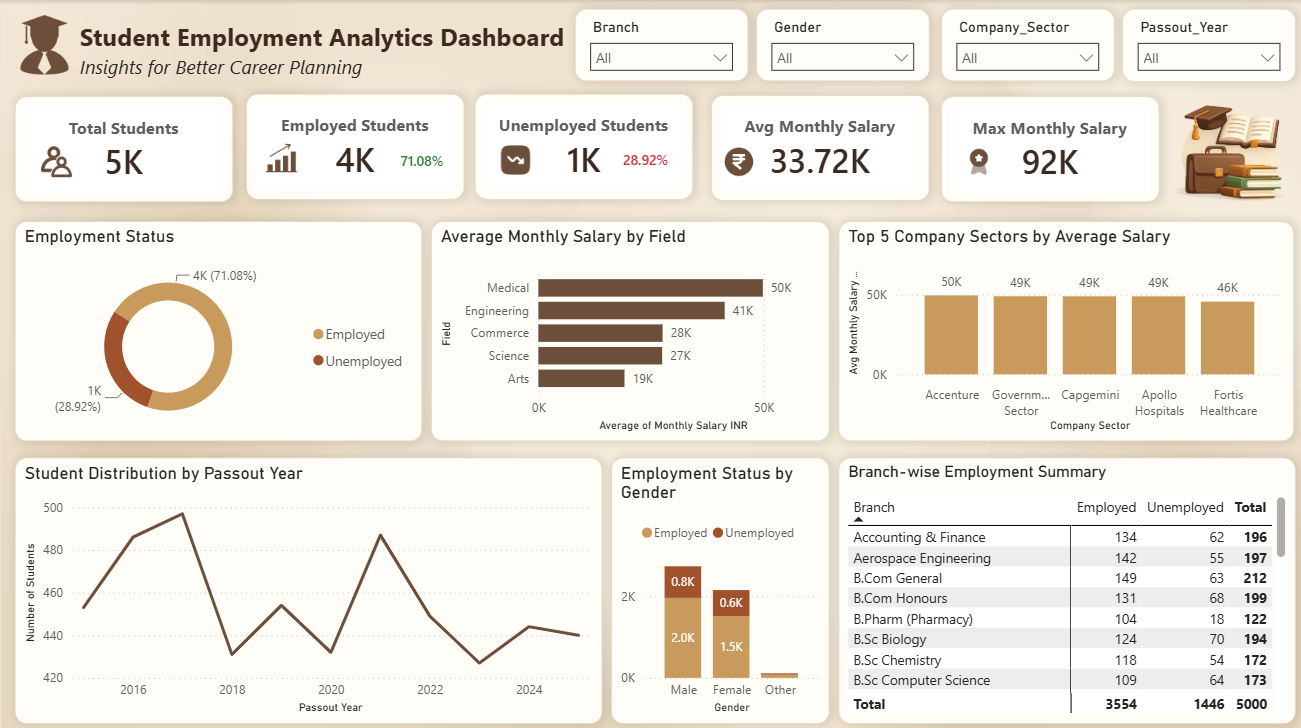

What the dashboard file says about the page in this screenshot:
{"tool":"powerbi","page":{"name":"Page 1","canvas":[1280,720],"ordinal":0},"visuals":[{"type":"textbox","box":[72.4,14.7,488.6,50],"z":0},{"type":"image","box":[13.5,14.7,58.6,58.6],"z":1000},{"type":"textbox","box":[72.4,47.9,488.6,50],"z":2000},{"type":"cardVisual","fields":{"Data":["Measures (2).Employed Students"]},"box":[240.5,92,214.7,104.3],"z":3000},{"type":"cardVisual","fields":{"Data":["Count(Student_Data.Student_ID)"]},"box":[13.5,94.5,214.7,104.3],"z":4000},{"type":"cardVisual","fields":{"Data":["Measures (2).Unemployed Students"]},"box":[465,92,214.7,104.3],"z":5000},{"type":"cardVisual","fields":{"Data":["Avg(Student_Data.Monthly_Salary_INR)"]},"box":[696.9,93.3,214.7,104.3],"z":6000},{"type":"cardVisual","fields":{"Data":["Max(Student_Data.Monthly_Salary_INR)"]},"box":[922.7,94.5,214.7,104.3],"z":7000},{"type":"image","box":[942.3,143.6,35.6,30.7],"z":8000},{"type":"image","box":[36.8,143.6,35,30.7],"z":9000},{"type":"image","box":[257.7,139.9,35,30],"z":10000},{"type":"image","box":[484.7,139.9,40.5,34.4],"z":11000},{"type":"image","box":[706.8,143.6,35,30],"z":12000},{"type":"donutChart","title":"Employment Status","fields":{"Y":["Measures (2).Employed Students","Measures (2).Unemployed Students"]},"box":[13.8,217.5,400,216.2],"z":13000},{"type":"slicer","fields":{"Values":["Student_Data.Branch"]},"box":[563.2,8.6,170,71.2],"z":14000},{"type":"slicer","fields":{"Values":["Student_Data.Gender"]},"box":[741.1,8.6,170,71.2],"z":15000},{"type":"slicer","fields":{"Values":["Student_Data.Company_Sector"]},"box":[922.7,8.6,170,71.2],"z":16000},{"type":"slicer","fields":{"Values":["Student_Data.Passout_Year"]},"box":[1100.6,8.6,170,72.4],"z":17000},{"type":"clusteredBarChart","title":"Average Monthly Salary by Field","fields":{"Y":["Avg(Student_Data.Monthly_Salary_INR)"],"Category":["Student_Data.Field"]},"box":[422.5,217.5,391.2,216.2],"z":18000},{"type":"clusteredColumnChart","title":"Top 5 Company Sectors by Average Salary","fields":{"Category":["Student_Data.Company_Sector"],"Y":["Avg(Student_Data.Monthly_Salary_INR)"]},"box":[822.5,217.5,447.5,216.2],"z":19000},{"type":"lineChart","title":"Student Distribution by Passout Year","fields":{"Category":["Student_Data.Passout_Year"],"Y":["Count(Student_Data.Student_ID)"]},"box":[13.5,449.1,576.7,261.4],"z":20000},{"type":"columnChart","title":"Employment Status by Gender","fields":{"Category":["Student_Data.Gender"],"Series":["Student_Data.Employment_Status"],"Y":["CountNonNull(Student_Data.Student_ID)"]},"box":[598.8,449.1,214.7,261.4],"z":21000},{"type":"pivotTable","title":"Branch-wise Employment Summary","fields":{"Rows":["Student_Data.Branch"],"Values":["Count(Student_Data.Student_ID)"],"Columns":["Student_Data.Employment_Status"]},"box":[822.1,449.1,449.1,261.4],"z":22000},{"type":"image","box":[1137.4,92,142.3,116.6],"z":23000},{"type":"cardVisual","fields":{"Data":["Measures (2).Employment Rate %"]},"box":[363.8,131.2,142.3,51.5],"z":24000},{"type":"cardVisual","fields":{"Data":["Measures (2).Unemployment Rate %"]},"box":[581.2,130,142.3,51.5],"z":25000}]}

Visuals, with their boxes in screenshot pixels (x1, y1, x2, y2), scaled from the page's 1280x720 canvas onto the 1301x728 screenshot:
textbox: left=74, top=15, right=570, bottom=65
image: left=14, top=15, right=73, bottom=74
textbox: left=74, top=48, right=570, bottom=99
cardVisual - Measures (2).Employed Students: left=244, top=93, right=463, bottom=198
cardVisual - Count(Student_Data.Student_ID): left=14, top=96, right=232, bottom=201
cardVisual - Measures (2).Unemployed Students: left=473, top=93, right=691, bottom=198
cardVisual - Avg(Student_Data.Monthly_Salary_INR): left=708, top=94, right=927, bottom=200
cardVisual - Max(Student_Data.Monthly_Salary_INR): left=938, top=96, right=1156, bottom=201
image: left=958, top=145, right=994, bottom=176
image: left=37, top=145, right=73, bottom=176
image: left=262, top=141, right=298, bottom=172
image: left=493, top=141, right=534, bottom=176
image: left=718, top=145, right=754, bottom=176
"Employment Status" donutChart: left=14, top=220, right=421, bottom=439
slicer - Student_Data.Branch: left=572, top=9, right=745, bottom=81
slicer - Student_Data.Gender: left=753, top=9, right=926, bottom=81
slicer - Student_Data.Company_Sector: left=938, top=9, right=1111, bottom=81
slicer - Student_Data.Passout_Year: left=1119, top=9, right=1291, bottom=82
"Average Monthly Salary by Field" clusteredBarChart: left=429, top=220, right=827, bottom=439
"Top 5 Company Sectors by Average Salary" clusteredColumnChart: left=836, top=220, right=1291, bottom=439
"Student Distribution by Passout Year" lineChart: left=14, top=454, right=600, bottom=718
"Employment Status by Gender" columnChart: left=609, top=454, right=827, bottom=718
"Branch-wise Employment Summary" pivotTable: left=836, top=454, right=1292, bottom=718
image: left=1156, top=93, right=1300, bottom=211
cardVisual - Measures (2).Employment Rate %: left=370, top=133, right=514, bottom=185
cardVisual - Measures (2).Unemployment Rate %: left=591, top=131, right=735, bottom=184
